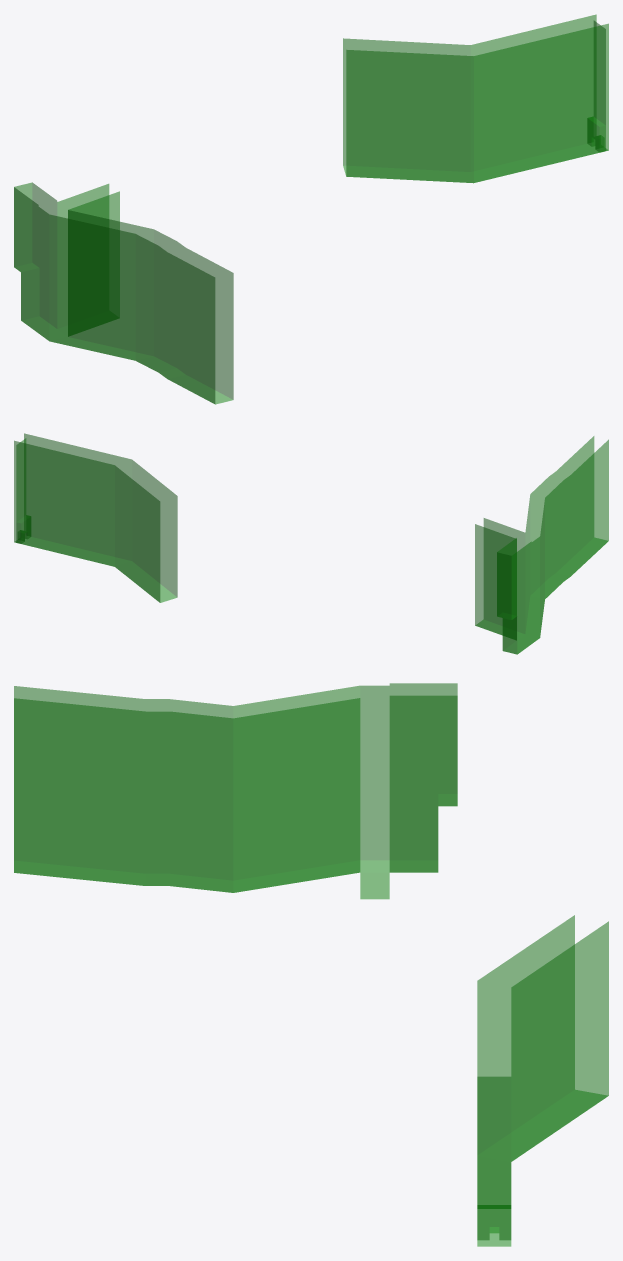
The model's file is hit.obj.
3 renders of one model, top to bottom at view 1: azimuth 30°, elevation 25°; view 2: azimuth 150°, elevation 25°; view 3: azimuth 270°, elevation 25°, orthographic. The views are drawn at different scales.
Size of the model in its own units: 196 by 45.51 by 122.
